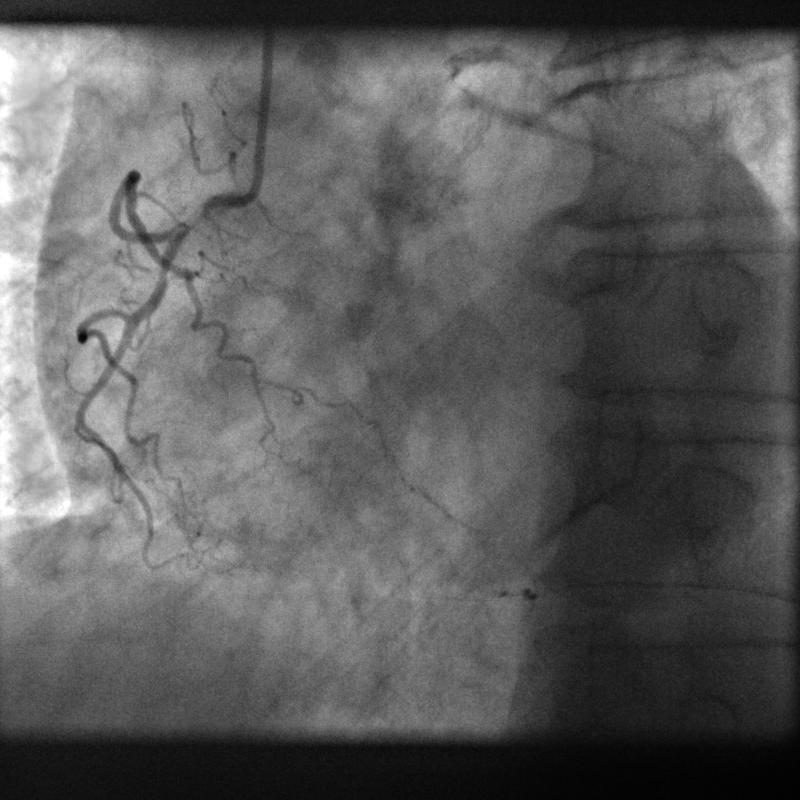Stenosis: (170, 205, 211, 240)
